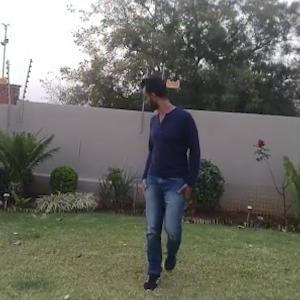follow: (134, 71, 202, 292)
